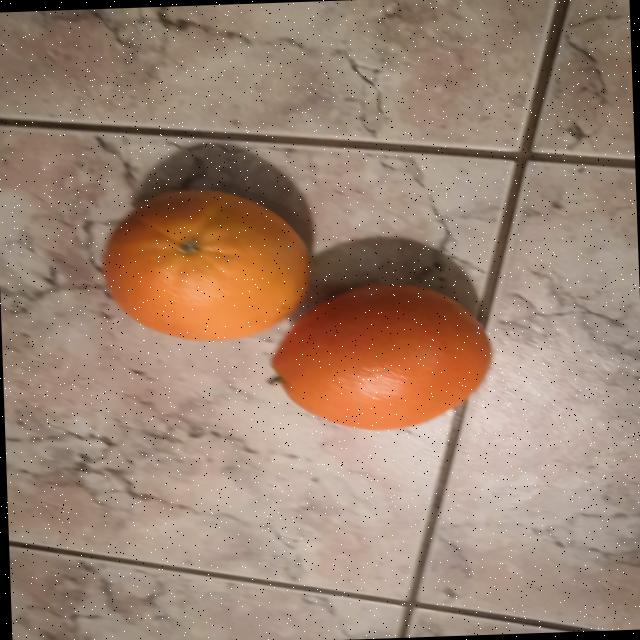orange: (270, 282, 490, 428), (103, 188, 308, 340)
